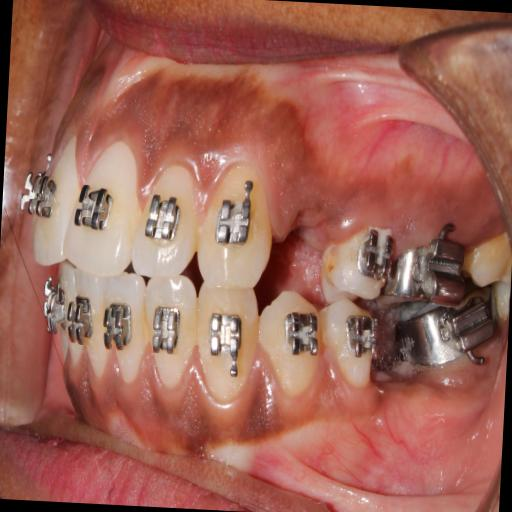correct_brace: (319, 221, 394, 310), (73, 174, 116, 240), (213, 193, 254, 255), (142, 188, 182, 249)
incorrect_brace: (133, 158, 201, 280), (354, 222, 396, 286)
